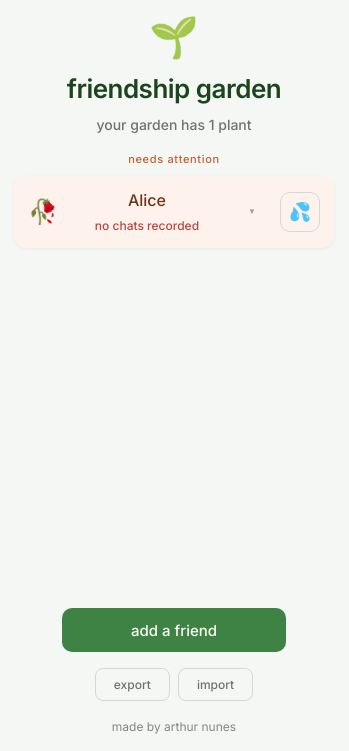
Test: App › history › shows type and note only when present
Click the button named "details for alice". click: (252, 212)
box: [236,192,268,232]
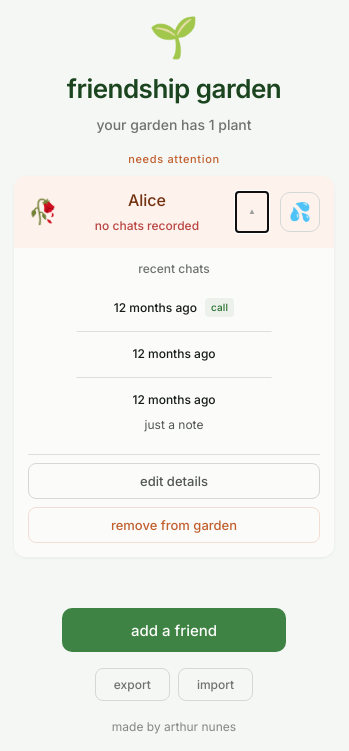
expect the text "recent chats" is shown: met, box [138,260,210,276]
expect the text "call" is shown: met, box [205,298,234,317]
expect the text "Just a note" is shown: met, box [145,416,203,432]
